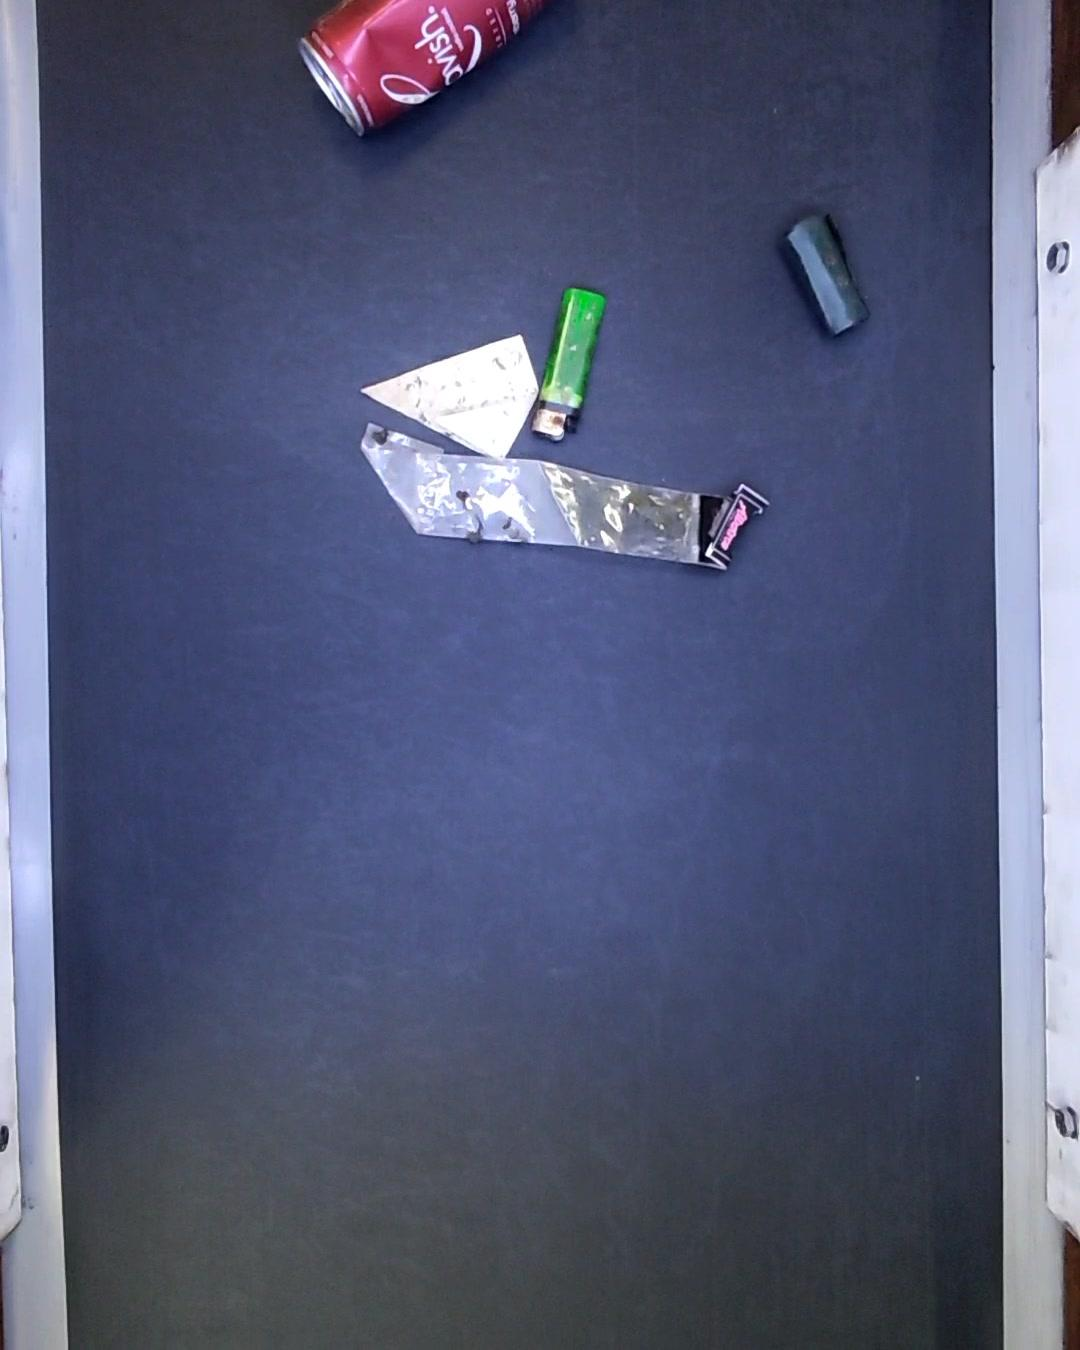Drankblikjes: (295, 0, 563, 131)
